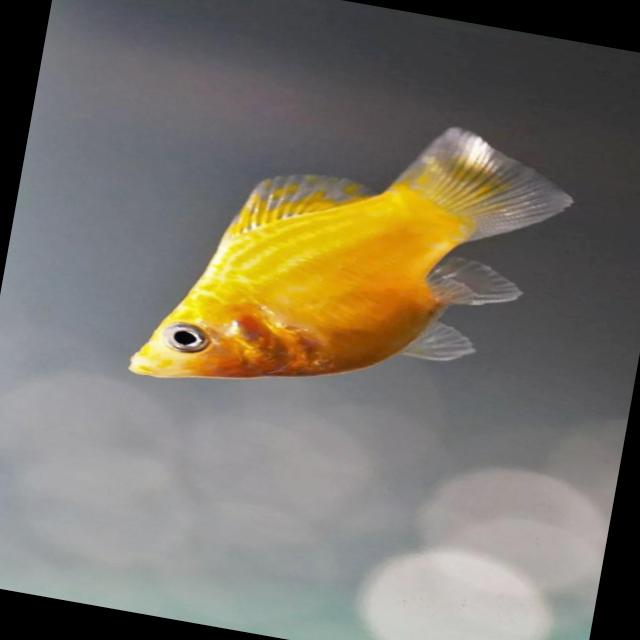PlatyFish: (98, 59, 598, 451)
